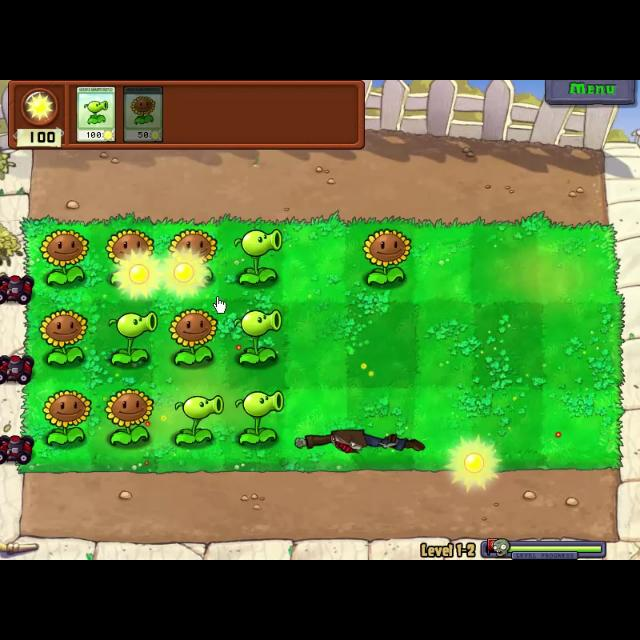Garden: (17, 214, 626, 476)
Menu Button: (546, 80, 636, 106)
Mower: (1, 269, 36, 309), (0, 352, 34, 386), (0, 433, 34, 465)
Peashooter: (74, 84, 116, 144)
Peashooter Seed: (228, 230, 290, 290), (227, 306, 290, 364), (105, 308, 162, 368), (230, 385, 290, 441), (168, 388, 222, 444)
Seed Panel: (7, 80, 369, 152)
Sun: (446, 435, 502, 495), (116, 252, 160, 296), (162, 254, 205, 296)
Sunflower: (123, 83, 165, 143)
Sunflower Seed: (100, 382, 156, 448), (36, 306, 90, 372), (361, 225, 414, 292), (38, 228, 92, 290), (39, 387, 91, 449), (167, 307, 219, 367), (106, 227, 154, 265), (167, 227, 220, 261)
